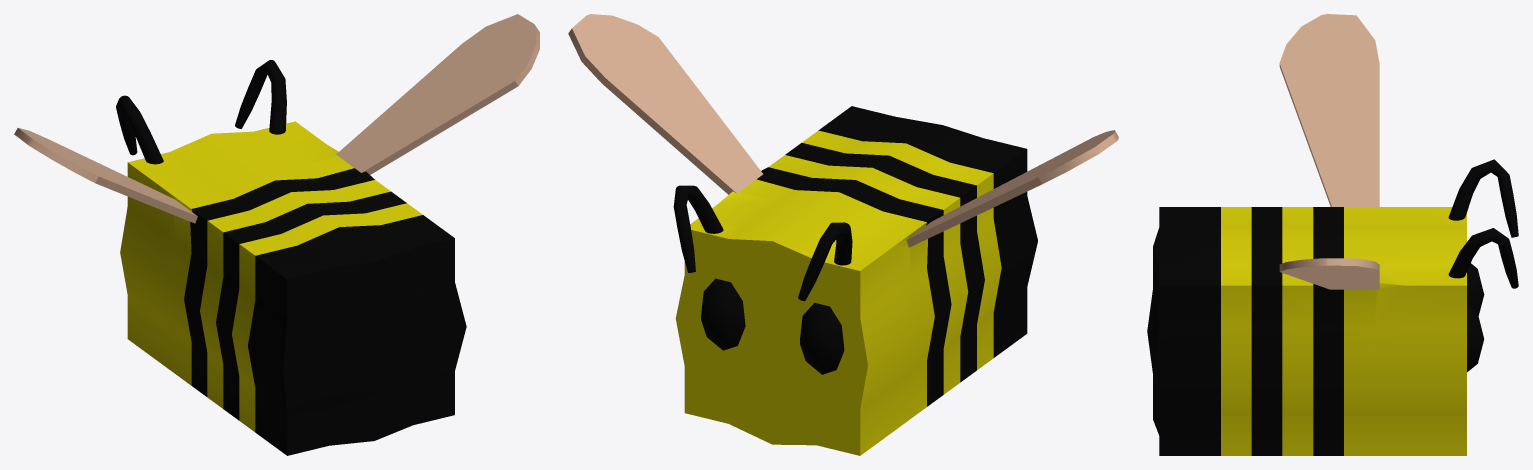
File: BeeFly.FBX
The picture shows the model from 3 angles, left to right: view 1: azimuth 30°, elevation 25°; view 2: azimuth 150°, elevation 25°; view 3: azimuth 270°, elevation 25°; orthographic projection. The views are drawn at different scales.
Visible parts, largest first — view 1: Box001; view 2: Box001; view 3: Box001.
Part boxes in pixels (x1,y1,x2,y2): Box001: (14,14,539,455); Box001: (568,14,1118,455); Box001: (1147,14,1518,455).
Bounding box in the file's own units: 111 × 63.48 × 72.86.
